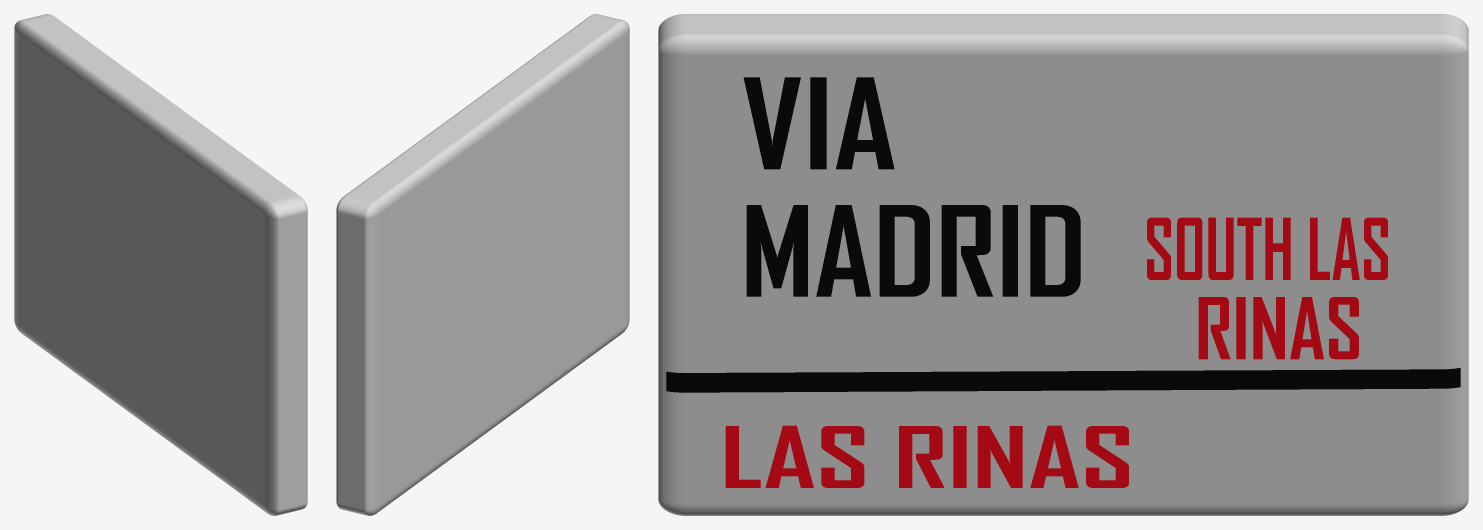
Rendered from uk_styled_street_sign_28.fbx.
3 views of the same model, side by side, from view 1: azimuth 30°, elevation 25°; view 2: azimuth 150°, elevation 25°; view 3: azimuth 270°, elevation 25° (orthographic). The views are drawn at different scales.
Parts seen in each view (by area): view 1: Cube; view 2: Cube; view 3: Cube, Text.001, Text.002, Text.003, Text, Text.004.
Boxes of the visible parts, x1,y1,x2,y2 form: Cube: [14, 14, 307, 515]; Cube: [336, 14, 629, 515]; Cube: [658, 14, 1468, 515]; Text.001: [746, 205, 1080, 296]; Text.002: [725, 425, 1128, 487]; Text.003: [1147, 217, 1387, 279]; Text: [743, 77, 894, 169]; Text.004: [1198, 297, 1358, 359].
Bounding box in the file's own units: 1.63 × 11.91 × 18.18.
